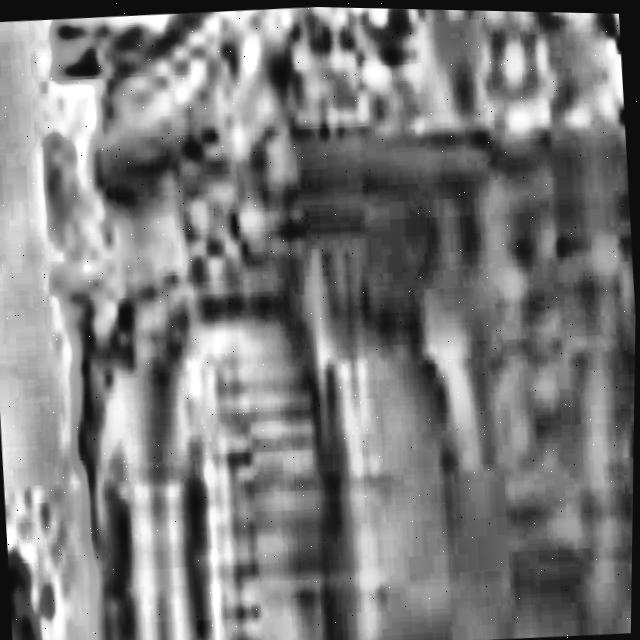dump_truck: (20, 0, 640, 640)
